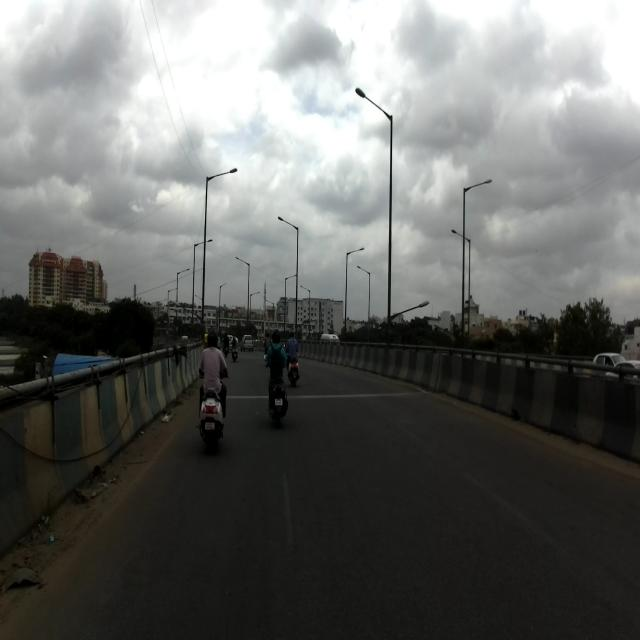scooter: (197, 372, 231, 455), (264, 350, 289, 425)
